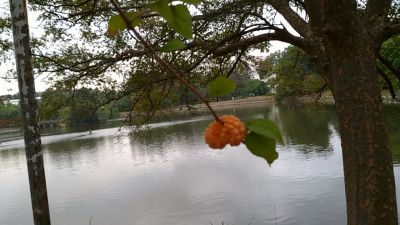eggs: (204, 113, 249, 150)
